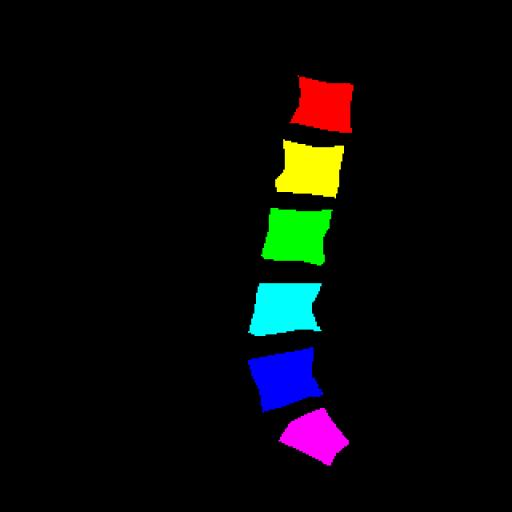L1: (290, 76, 353, 132)
L2: (275, 140, 344, 198)
L3: (262, 208, 332, 266)
L4: (249, 283, 321, 336)
L5: (248, 347, 323, 412)
S1: (279, 408, 349, 466)
